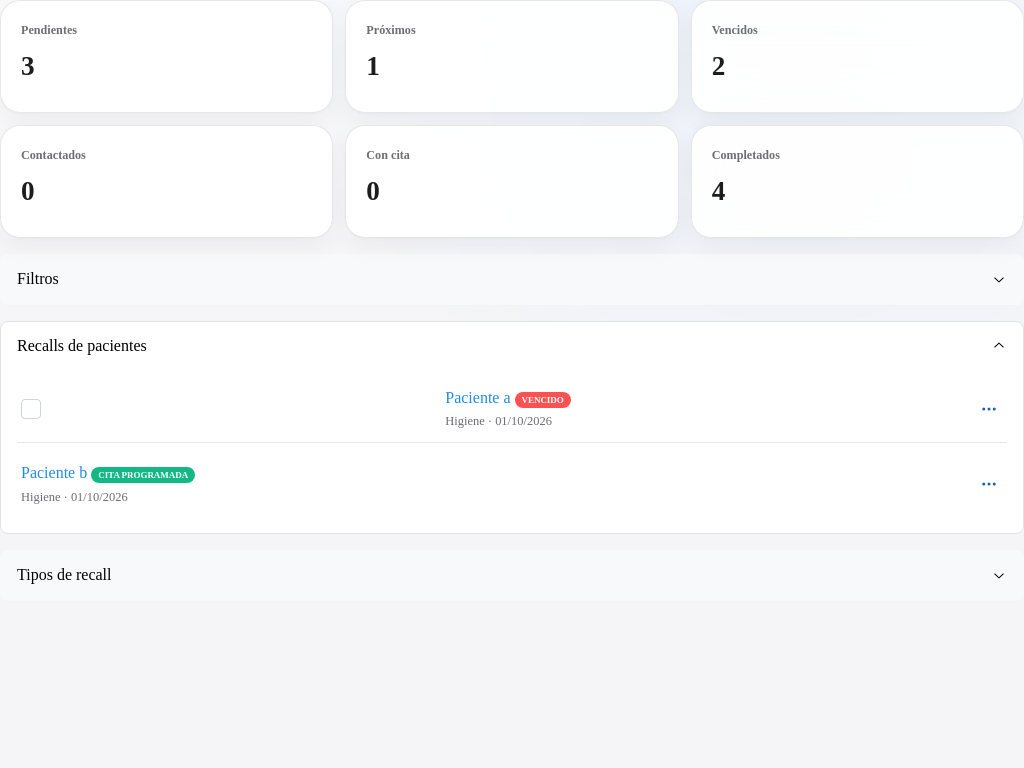
RecallsModule › informa de los fallos parciales de un lote y deja seleccionados los que fallaron
Click the checkbox named "Seleccionar a Paciente a" at [31, 409], box [21, 399, 41, 419]
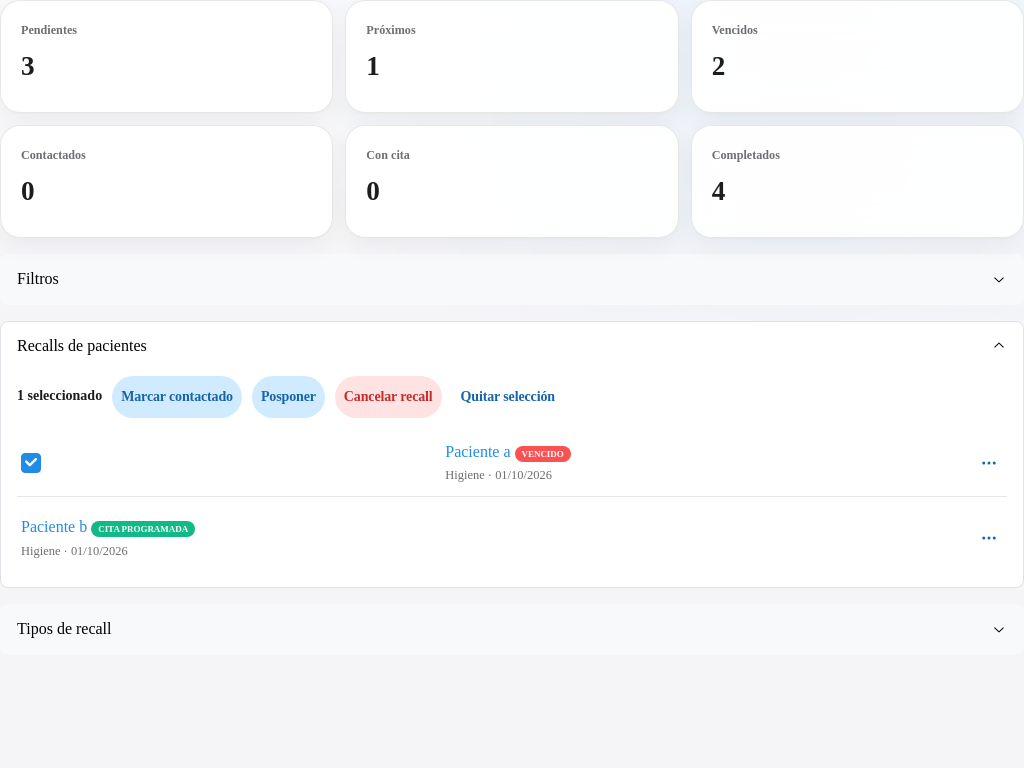
Click the button "Marcar contactado" at [177, 397], box [112, 376, 242, 418]
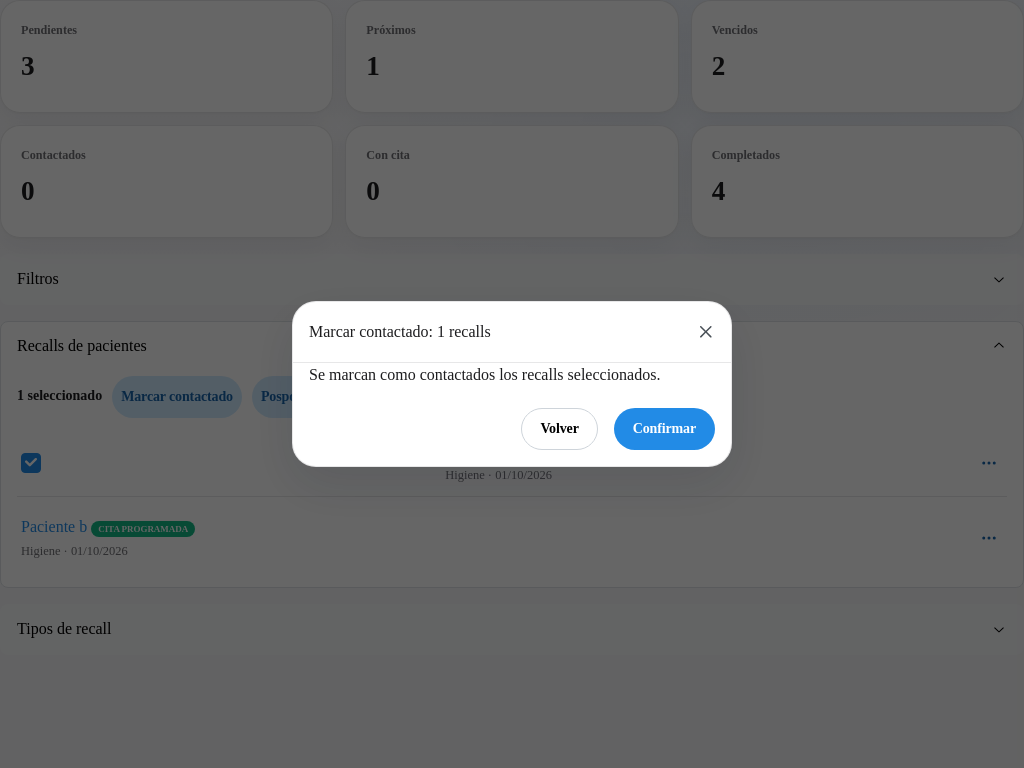
Click the button "Confirmar" at [664, 429], box [614, 408, 715, 450]
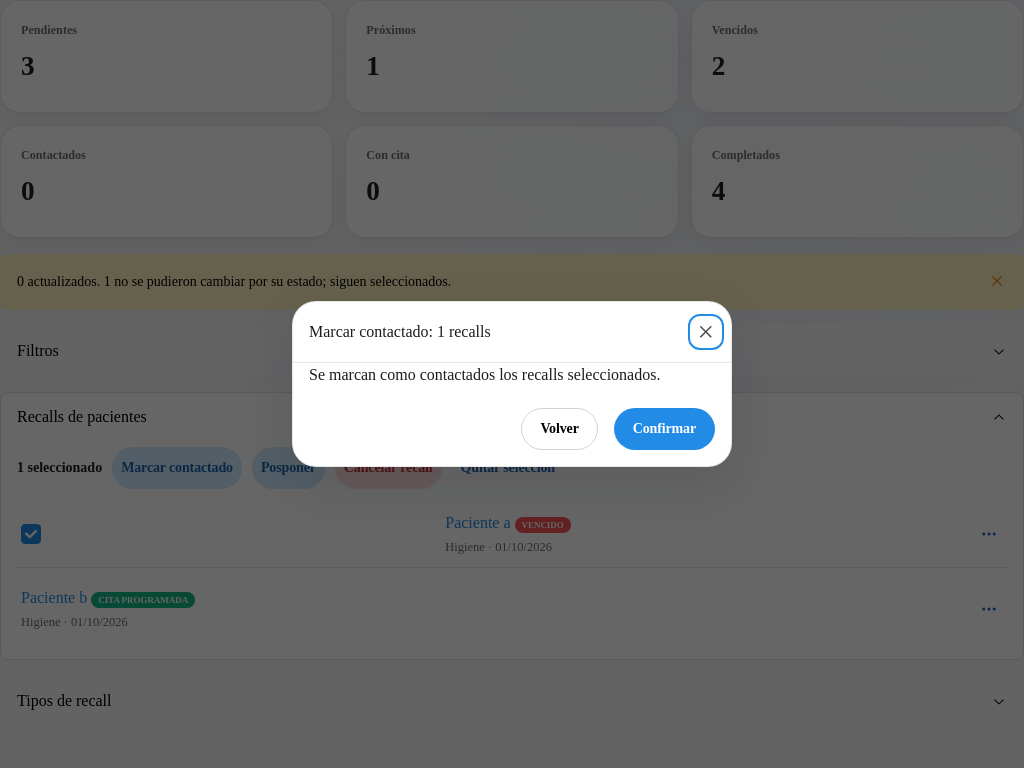
Expected: the checkbox named "Seleccionar a Paciente a" is checked, [21, 524, 41, 544]
Expected: the text "1 no se pudieron cambiar" is shown, [100, 274, 451, 289]
